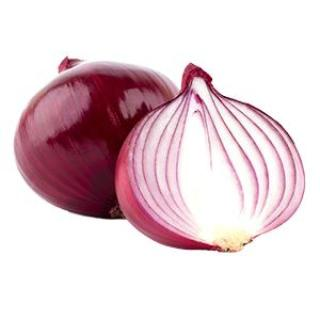Bawang Merah: (12, 53, 308, 255)
